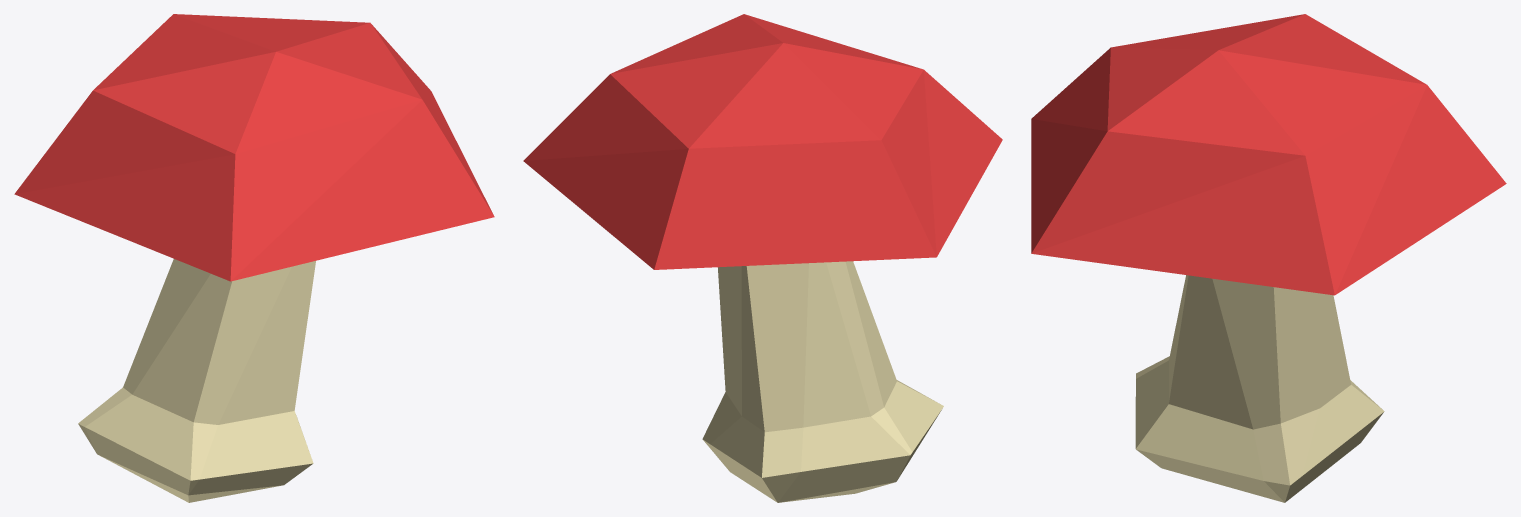
Rendered from Mushroom.fbx.
3 renders of one model, left to right at view 1: azimuth 30°, elevation 25°; view 2: azimuth 150°, elevation 25°; view 3: azimuth 270°, elevation 25°, orthographic. The views are drawn at different scales.
Visible parts, largest first — view 1: Mushroom; view 2: Mushroom; view 3: Mushroom.
Part boxes in pixels (bbox=[...]): Mushroom: bbox=[14, 14, 494, 502]; Mushroom: bbox=[523, 14, 1002, 502]; Mushroom: bbox=[1031, 14, 1506, 502].
Bounding box in the file's own units: 84.54 × 83.94 × 79.16.
